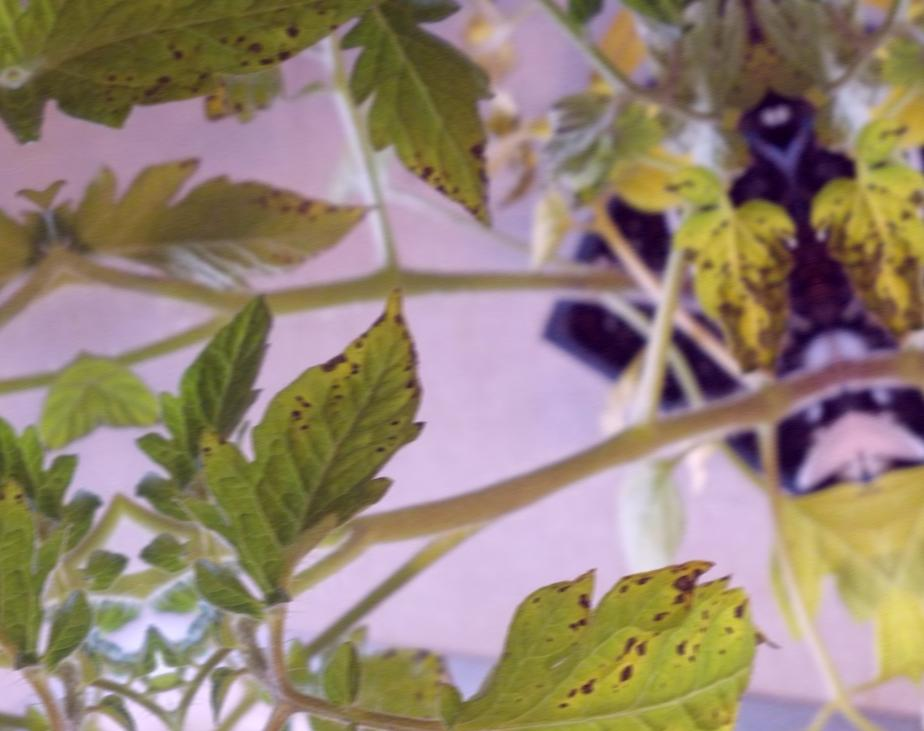Tomato Septoria leaf spot: (149, 264, 480, 637), (415, 512, 840, 731), (0, 0, 466, 166), (317, 0, 557, 269), (650, 169, 841, 408)
